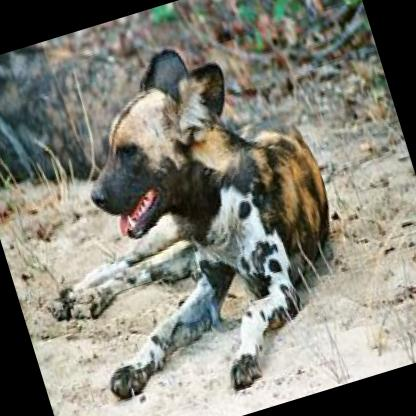African_hunting_dog: (0, 10, 376, 416)
